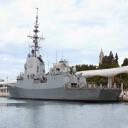Fragata: (6, 5, 124, 101)
